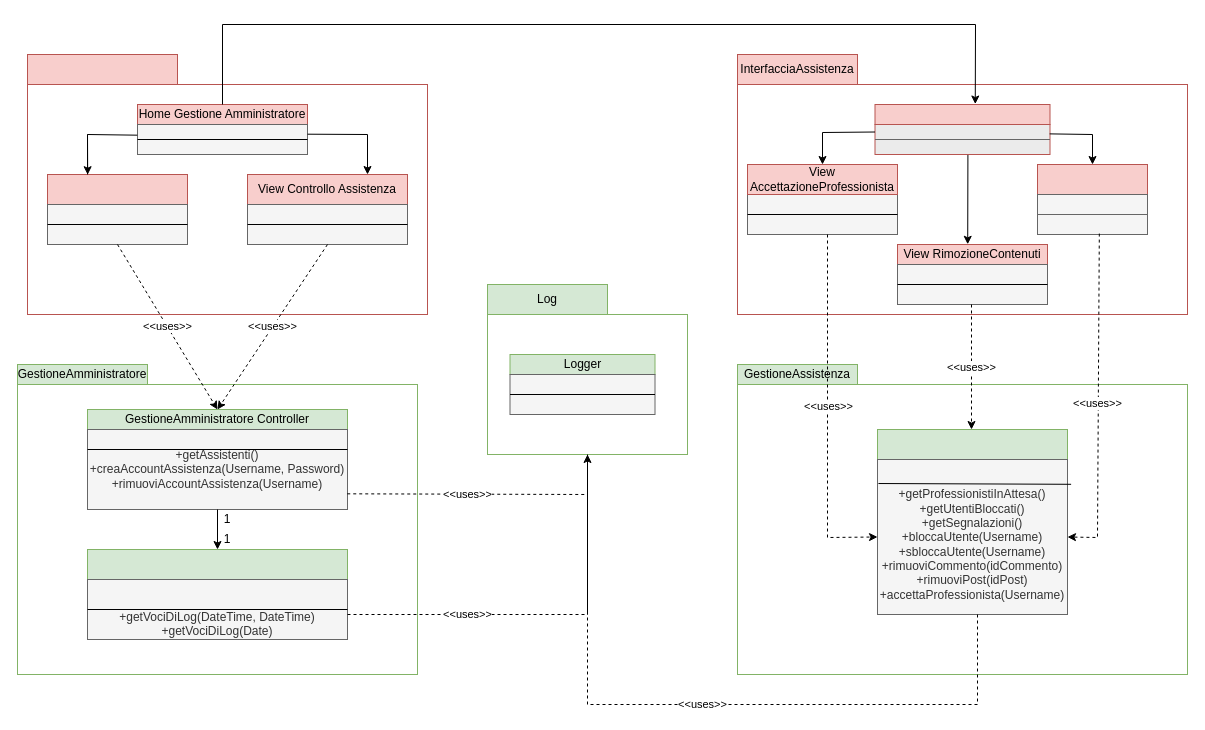
This 1205x730 diagram has some shape labels left out. Each missing label, with the centre of its shape:
+AggiungiLog(VoceDiLog): [582,394]
GestioneAssitenza Controller: [972,444]
Home GestioneAssistenza: [962,114]
InterfacciaAmministratore: [102,69]
Log Controller: [217,564]
View GestioneBan: [1092,179]
View Visualizzazione Log: [117,189]
